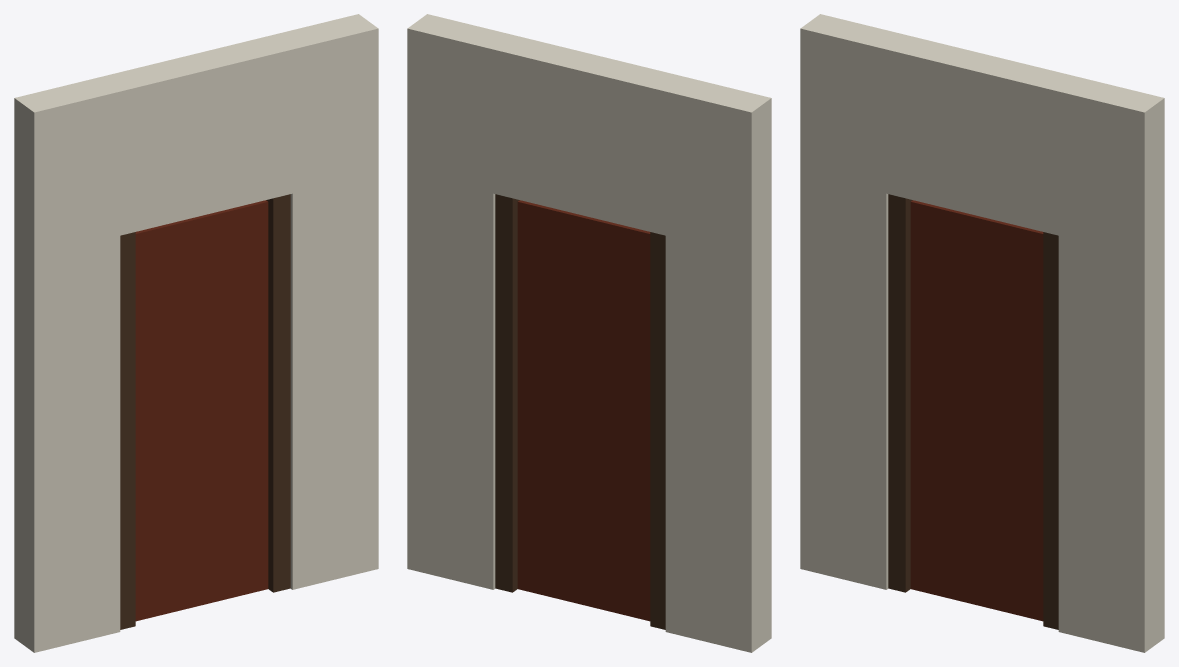
Rendered from kit_door_2.glb.
The picture shows the model from 3 angles, left to right: view 1: azimuth 30°, elevation 25°; view 2: azimuth 150°, elevation 25°; view 3: azimuth 330°, elevation 25°; orthographic projection.
Parts seen in each view (by area): view 1: placeholder; view 2: placeholder; view 3: placeholder.
Boxes of the visible parts, x1=… form: placeholder: x1=14, y1=14, x2=378, y2=652; placeholder: x1=407, y1=14, x2=771, y2=652; placeholder: x1=800, y1=14, x2=1164, y2=652.
Bounding box in the file's own units: 2 × 3 × 0.2.
